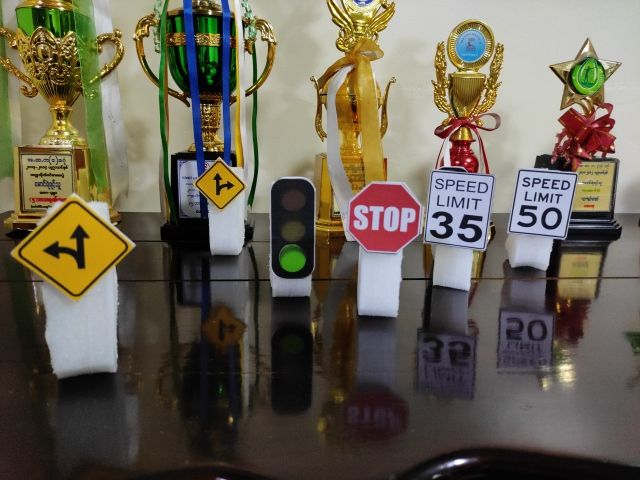Green Traffic Light: (270, 178, 315, 278)
Speed Limit 35: (425, 170, 493, 249)
Speed Limit 50: (509, 171, 576, 238)
Stop Sign: (348, 182, 423, 254)
Straight Or Left Sign: (13, 199, 132, 298)
Straight Or Right Sign: (196, 159, 247, 210)
